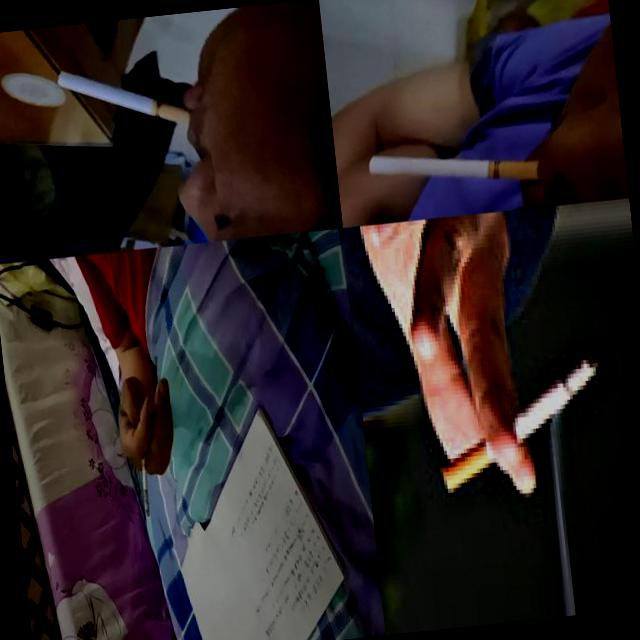cigarette: (430, 354, 610, 495), (52, 55, 194, 142), (366, 136, 544, 201), (137, 438, 154, 518)
